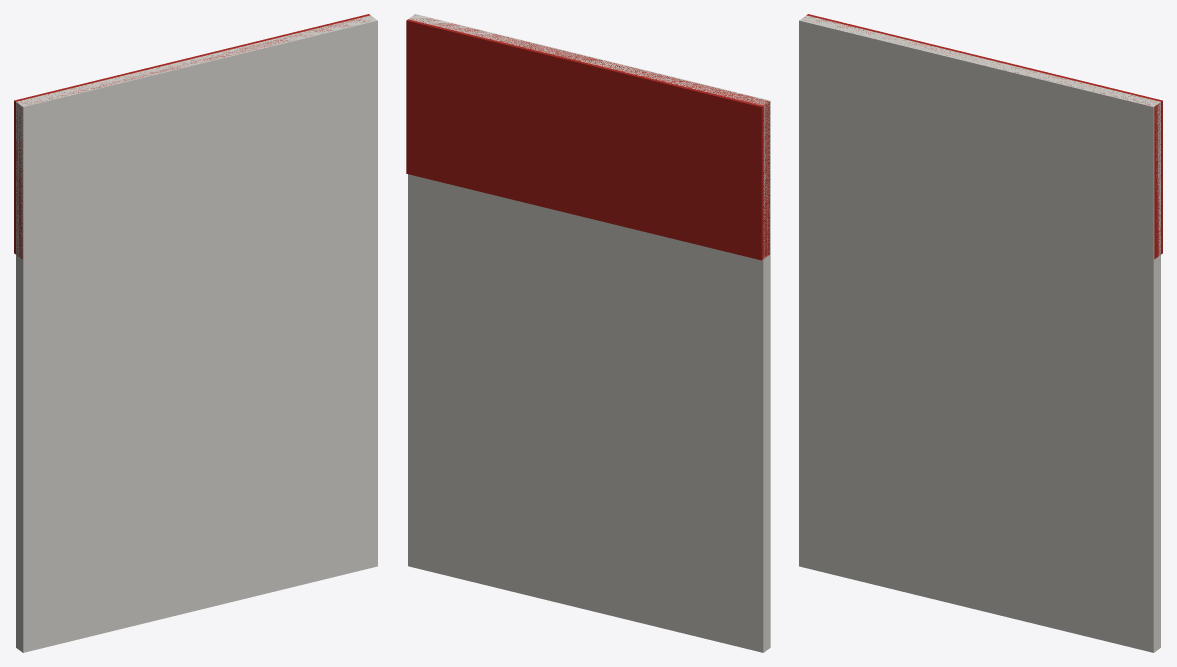
File: calendario.glb
3 renders of one model, left to right at view 1: azimuth 30°, elevation 25°; view 2: azimuth 150°, elevation 25°; view 3: azimuth 330°, elevation 25°, orthographic.
Visible parts, largest first — view 1: Calendario, Calendario_Faixa; view 2: Calendario, Calendario_Faixa; view 3: Calendario, Calendario_Faixa.
Boxes of the visible parts, x1,y1,x2,y2 form: Calendario: (16, 15, 377, 652); Calendario_Faixa: (14, 14, 370, 258); Calendario: (408, 14, 770, 652); Calendario_Faixa: (406, 15, 769, 260); Calendario: (799, 15, 1160, 652); Calendario_Faixa: (804, 14, 1162, 259).
Size of the model in its own units: 0.34 by 0.5 by 0.015.
